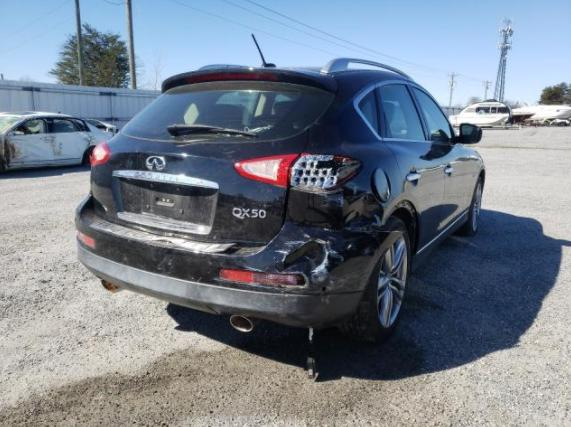Back-bumper: (75, 186, 404, 335)
Back-door: (377, 79, 445, 254)
Back-wheel: (338, 228, 412, 343)
Back-window: (380, 84, 425, 140), (359, 88, 382, 137)
Back-windshield: (121, 80, 335, 143)
Fender: (462, 145, 485, 208)
Front-door: (408, 82, 472, 236)
Front-wheel: (460, 179, 482, 235)
Front-window: (414, 88, 451, 142)
License-plate: (146, 183, 184, 214)
Mirror: (455, 122, 483, 144)
Quarter-panel: (303, 123, 406, 224)
Rocker-panel: (411, 208, 469, 271)
Roof: (258, 57, 412, 81)
Tail-light: (287, 152, 362, 192), (234, 153, 302, 188), (90, 142, 111, 166)
Trunk: (91, 65, 340, 248)
